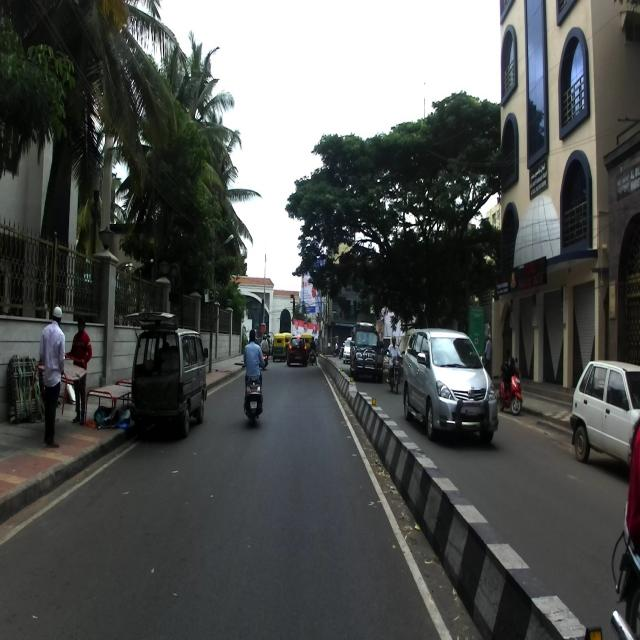Car_Mahindra: (350, 320, 382, 380)
Car_Maruti-Suzuki: (121, 306, 207, 438), (570, 359, 640, 464)
Car_Toyota: (403, 327, 498, 449)
motorcycle_bajaj: (386, 348, 406, 393)
